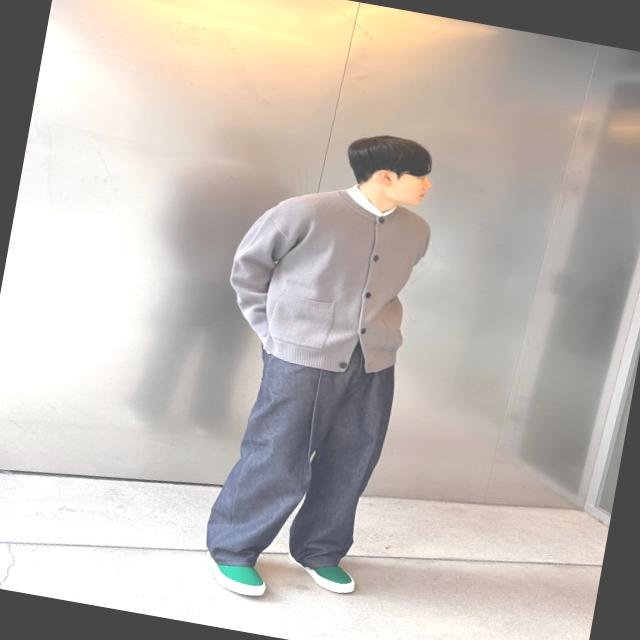cardigan: (219, 170, 429, 380)
denimpants: (202, 328, 400, 587)
